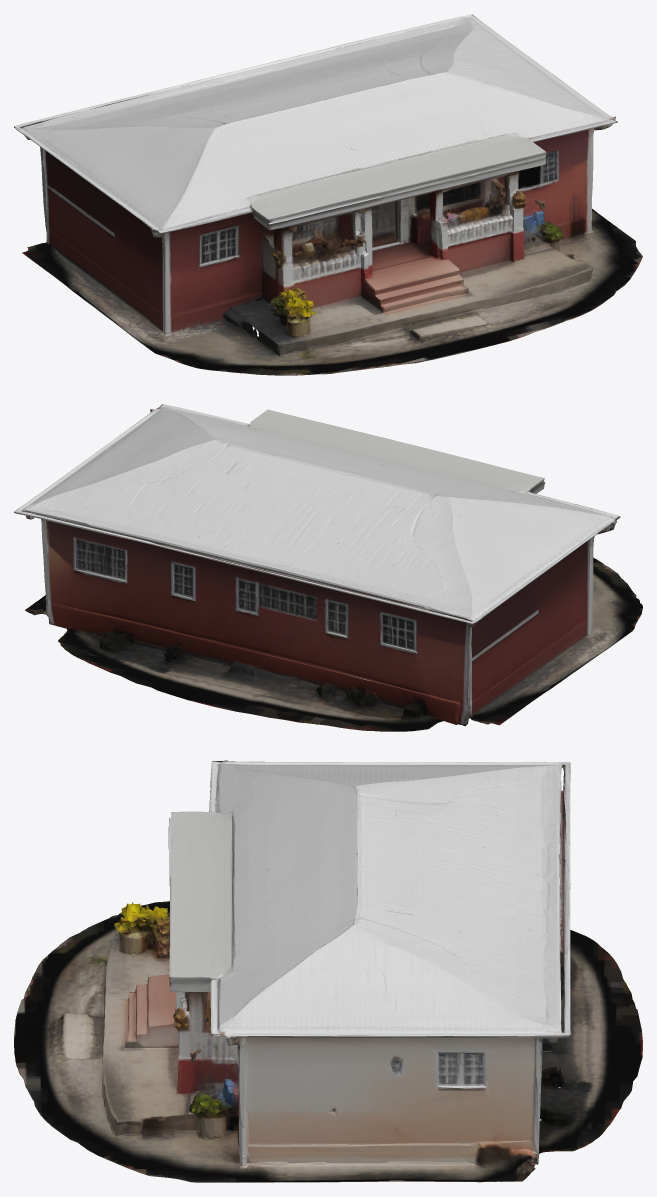
Rendered from property.glb.
3 views of the same model, one above another, from view 1: azimuth 30°, elevation 25°; view 2: azimuth 150°, elevation 25°; view 3: azimuth 270°, elevation 25° (orthographic). The views are drawn at different scales.
Visible parts, largest first — view 1: world; view 2: world; view 3: world.
Boxes of the visible parts, x1=… form: world: x1=14, y1=14, x2=642, y2=375; world: x1=14, y1=404, x2=642, y2=731; world: x1=14, y1=760, x2=642, y2=1182.
Size of the model in its own units: 1 by 0.3065 by 0.9344.
Materials: 1 (1 with a texture image).
